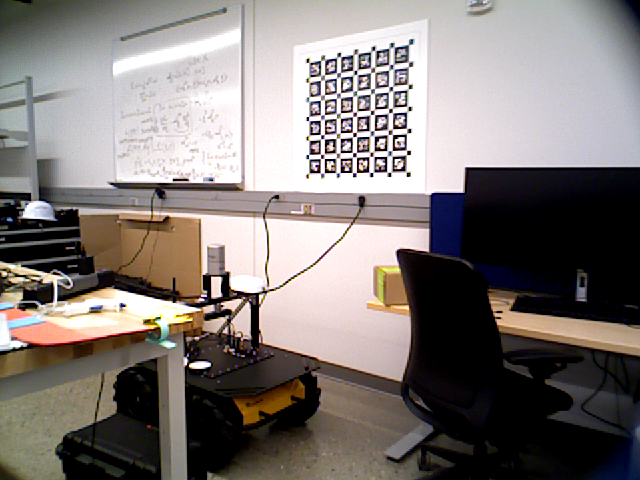painting4: (293, 34, 426, 196)
